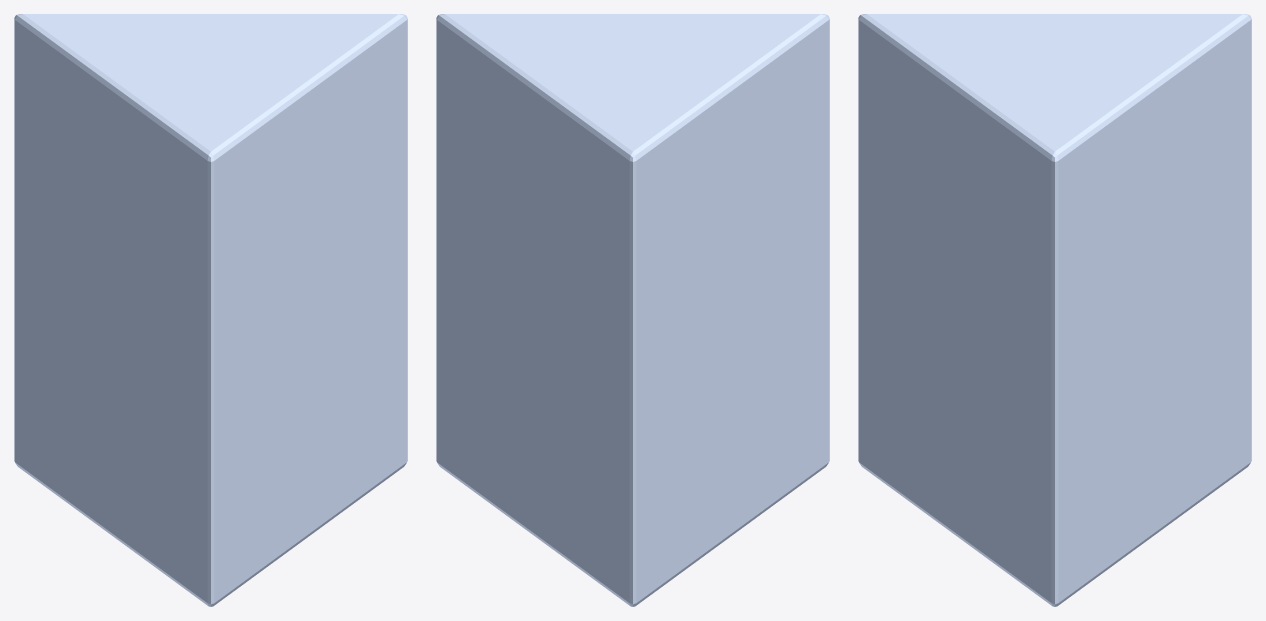
3 renders of one model, left to right at view 1: azimuth 30°, elevation 25°; view 2: azimuth 150°, elevation 25°; view 3: azimuth 270°, elevation 25°, orthographic.
Parts seen in each view (by area): view 1: crystal; view 2: crystal; view 3: crystal.
Boxes of the visible parts, left/top/right/bottom form: crystal: left=14, top=14, right=407, bottom=606; crystal: left=436, top=14, right=829, bottom=606; crystal: left=858, top=14, right=1251, bottom=606.
Bounding box in the file's own units: 0.9219 × 1.35 × 1.06.
